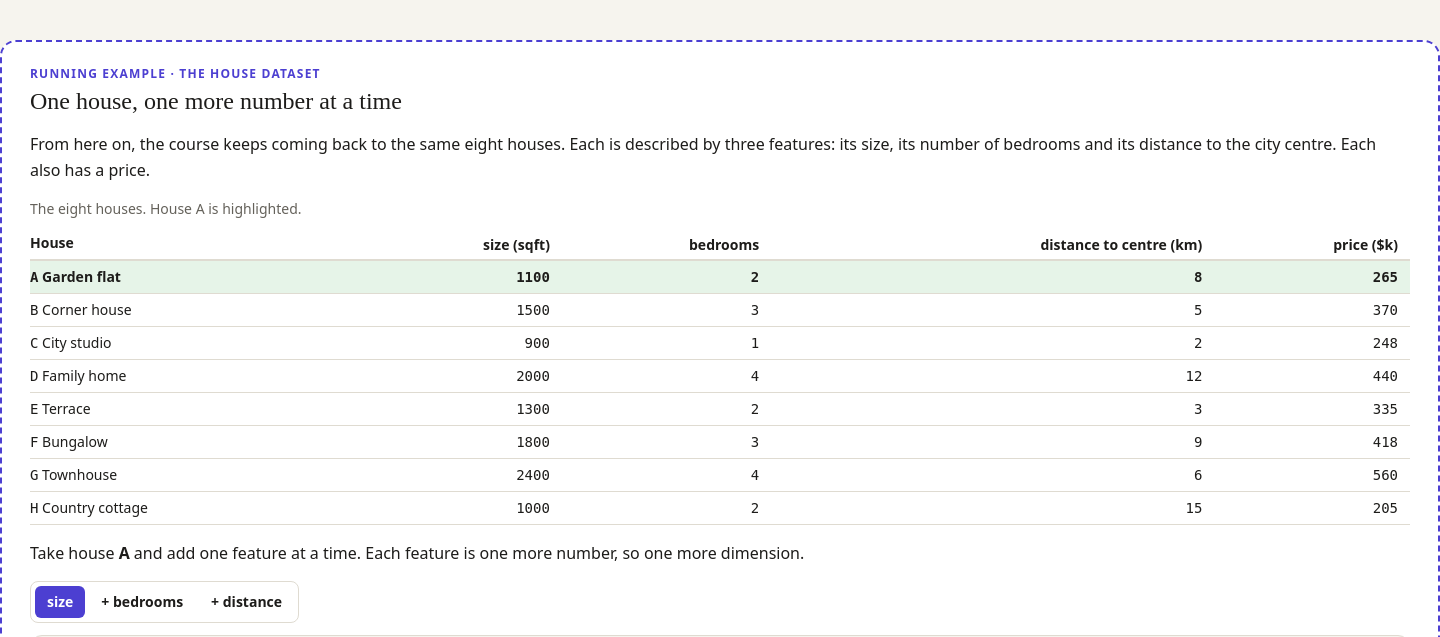
Test case: running example: house A as a point › renders the section and steps through the features
Expected: the heading "One house, one more number at a time" is shown, top-left (30, 88), bottom-right (402, 114)
Click the button "+ distance": (247, 602) top-left (199, 586), bottom-right (294, 618)
(page scrolled)
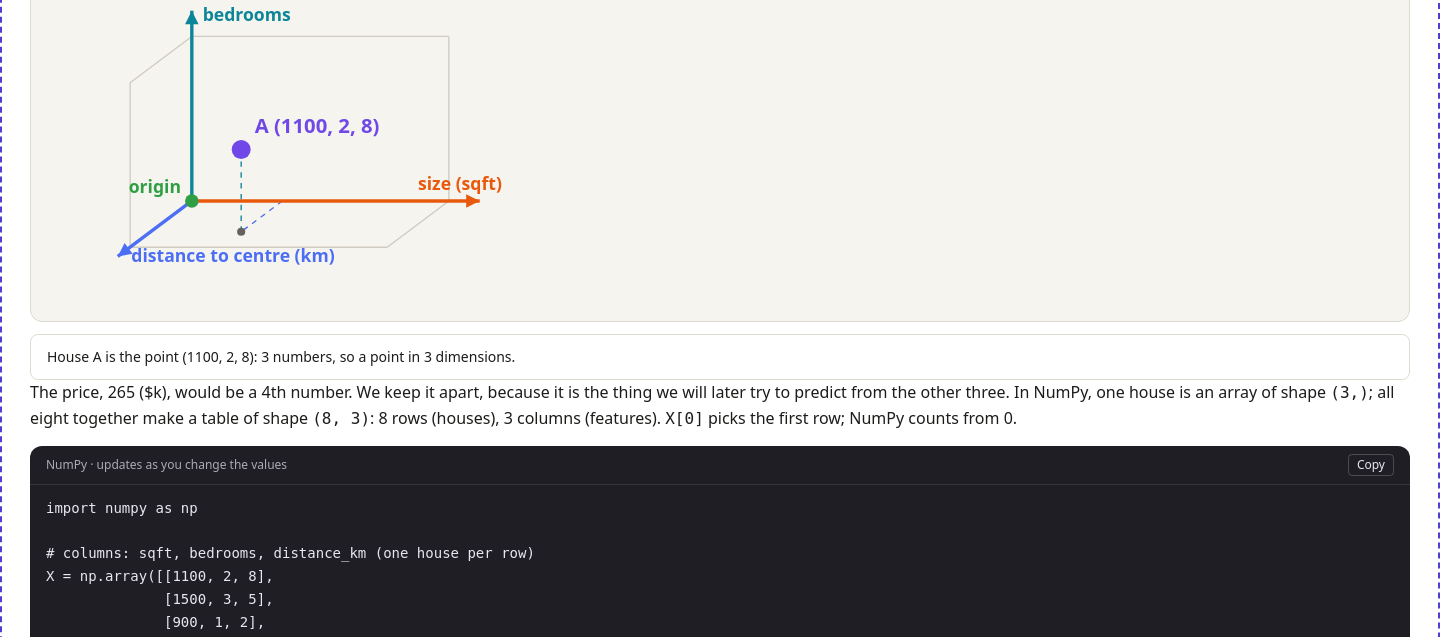
Expected: the text "The price, 265 ($k), would be a 4th number" is shown, top-left (30, 380), bottom-right (1410, 432)
Expected: the text "House A is the point (1100, 2, 8): 3 numbers, so a point in 3 dimensions." is shown, top-left (30, 334), bottom-right (1410, 380)
